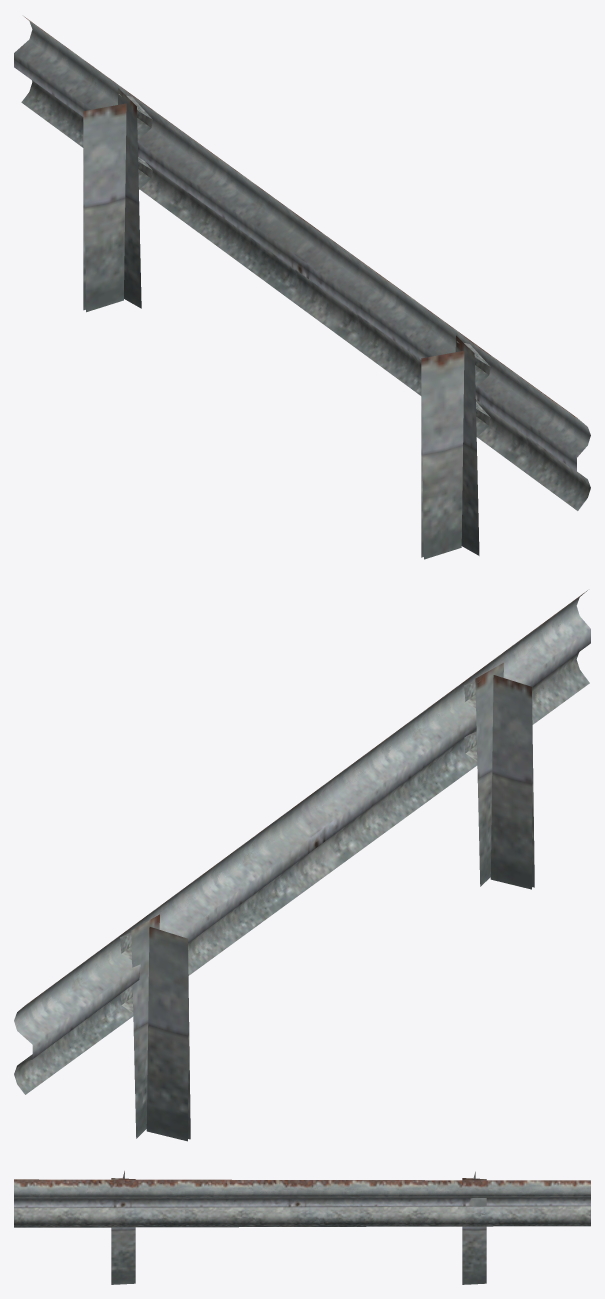
File: cr_barier.FBX
3 views of the same model, one above another, from view 1: azimuth 30°, elevation 25°; view 2: azimuth 150°, elevation 25°; view 3: azimuth 270°, elevation 25° (orthographic). The views are drawn at different scales.
Parts seen in each view (by area): view 1: CrashBarrier; view 2: CrashBarrier; view 3: CrashBarrier.
Boxes of the visible parts, x1=… form: CrashBarrier: x1=14, y1=16, x2=590, y2=559; CrashBarrier: x1=14, y1=590, x2=590, y2=1141; CrashBarrier: x1=14, y1=1171, x2=590, y2=1284.
Bounding box in the file's own units: 12.89 × 40.15 × 197.
